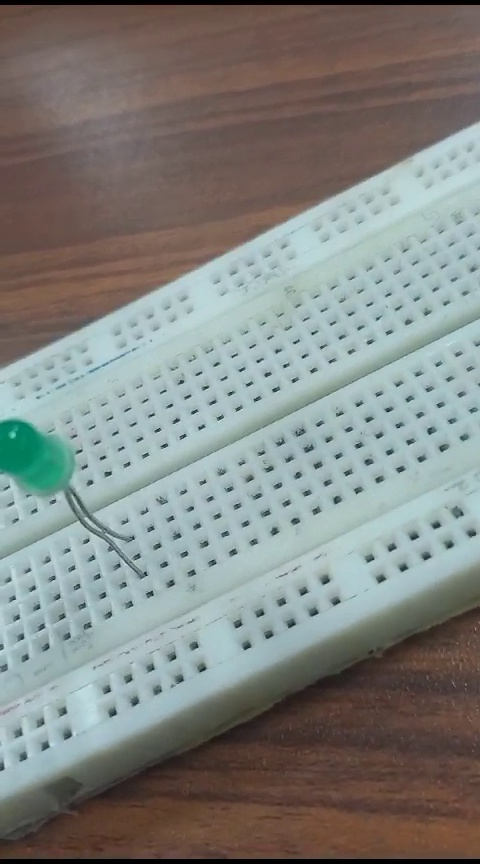LED: (4, 411, 154, 587)
